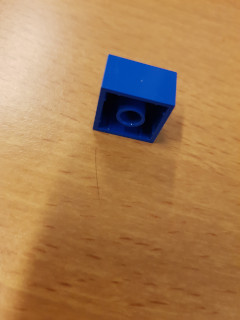2x2 blue: (91, 52, 178, 145)
